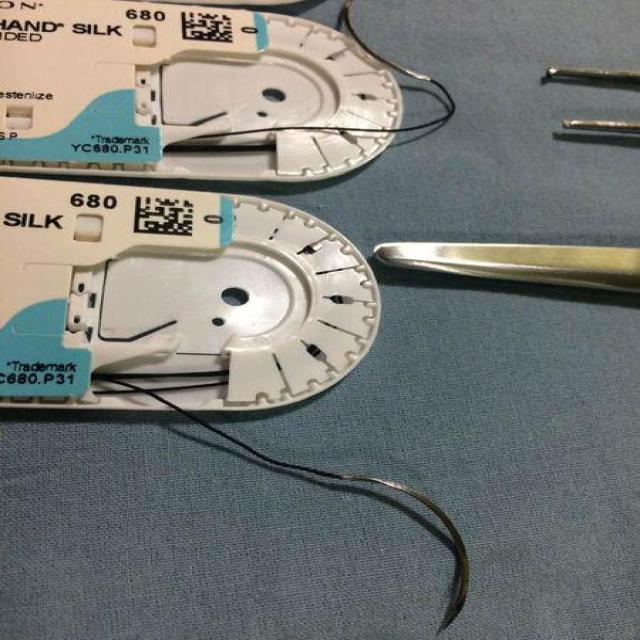Forceps: (542, 64, 640, 138)
Mayo_metz: (368, 238, 640, 296)
Needle: (336, 469, 474, 638), (338, 0, 432, 82)
